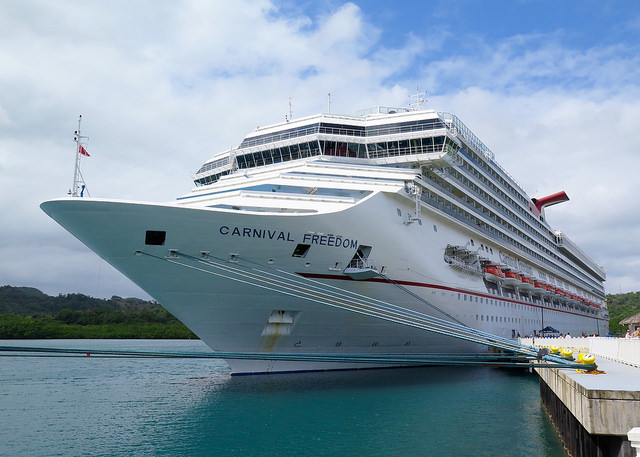cruise_ship: (41, 95, 614, 338)
